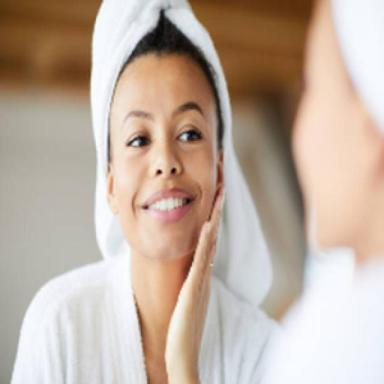normal skin: (108, 53, 223, 384)
